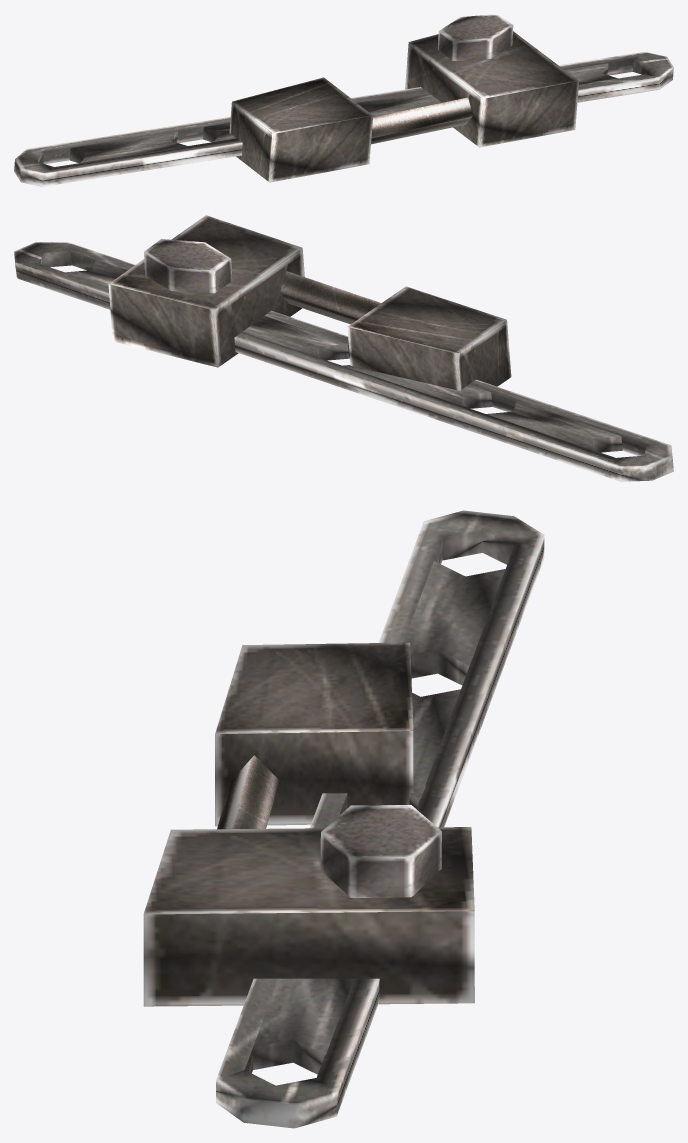
File: Robot01.RightShoulder2.fbx
3 views of the same model, one above another, from view 1: azimuth 30°, elevation 25°; view 2: azimuth 150°, elevation 25°; view 3: azimuth 270°, elevation 25° (orthographic). The views are drawn at different scales.
Visible parts, largest first — view 1: Robot01.RightShoulder2; view 2: Robot01.RightShoulder2; view 3: Robot01.RightShoulder2.
Boxes of the visible parts, x1=… form: Robot01.RightShoulder2: x1=14, y1=14, x2=673, y2=186; Robot01.RightShoulder2: x1=14, y1=215, x2=673, y2=481; Robot01.RightShoulder2: x1=143, y1=510, x2=544, y2=1128.
Bounding box in the file's own units: 81.71 × 9.26 × 23.49.
